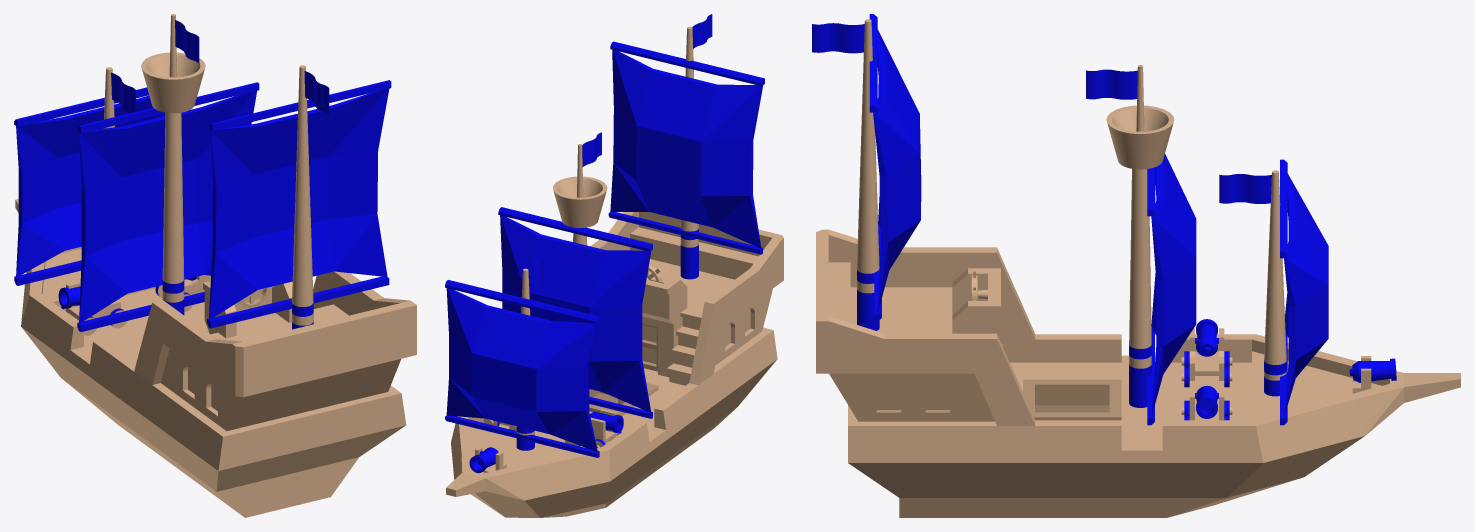
File: pirate_ship_blue.fbx
3 renders of one model, left to right at view 1: azimuth 30°, elevation 25°; view 2: azimuth 150°, elevation 25°; view 3: azimuth 270°, elevation 25°, orthographic. The views are drawn at different scales.
Parts seen in each view (by area): view 1: ship_dark_8angles, sail_back, sail_middle, sail_front, cannon_left; view 2: ship_dark_8angles, sail_back, sail_front, sail_middle, cannon_left (×2), cannon_front; view 3: ship_dark_8angles, sail_back, sail_middle, sail_front, cannon_left (×2), cannon_front.
Boxes of the visible parts, x1,y1,x2,y2 form: ship_dark_8angles: [15, 14, 416, 517]; sail_back: [207, 80, 391, 328]; sail_middle: [77, 82, 259, 331]; sail_front: [14, 87, 165, 285]; cannon_left: [66, 281, 120, 320]; ship_dark_8angles: [446, 14, 783, 517]; sail_back: [608, 41, 764, 254]; sail_front: [445, 280, 599, 457]; sail_middle: [498, 207, 652, 418]; cannon_left (×2): [590, 408, 623, 443]; cannon_front: [469, 447, 498, 473]; ship_dark_8angles: [812, 19, 1460, 517]; sail_back: [869, 14, 921, 321]; sail_middle: [1147, 154, 1196, 425]; sail_front: [1280, 159, 1328, 425]; cannon_left (×2): [1189, 319, 1224, 380]; cannon_front: [1349, 358, 1396, 382].
Size of the model in its own units: 2850 by 6546 by 8098.
